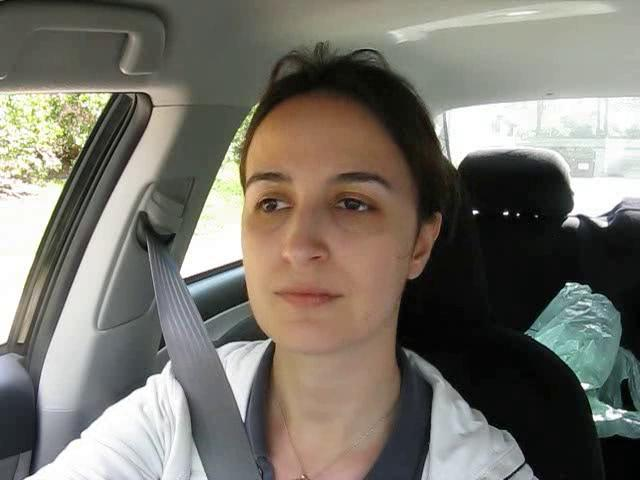no_yawn: (260, 275, 353, 319)
open_eyeL: (249, 187, 299, 224)
open_eyeR: (319, 186, 392, 226)
